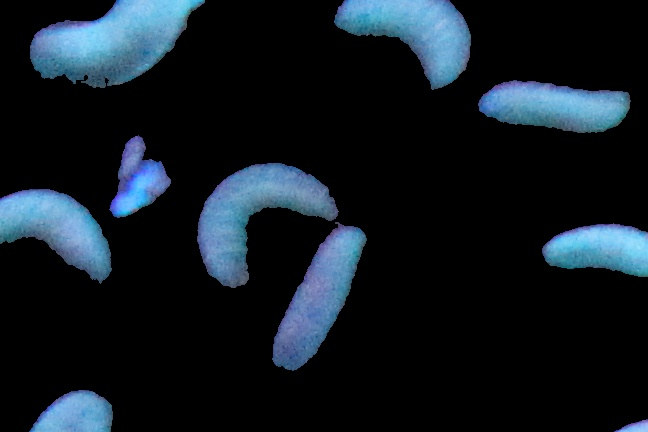larvae: (191, 158, 339, 289), (26, 1, 220, 99), (277, 226, 370, 368), (335, 1, 471, 93), (1, 184, 112, 285), (482, 82, 619, 133), (534, 220, 648, 274), (27, 376, 125, 432)
